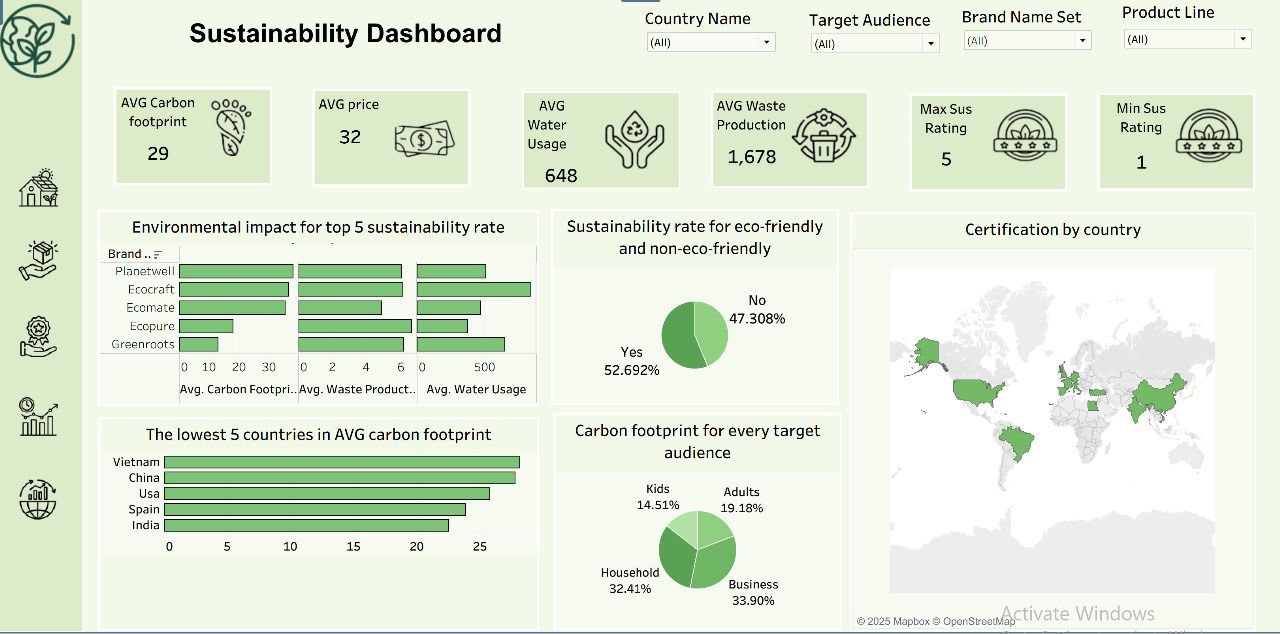

This screenshot's page, from the dashboard's own definition file:
{"tool":"powerbi","page":{"name":"Dashboard1 ","canvas":[1280,720],"ordinal":1},"visuals":[{"type":"shape","box":[0,0,145,643],"z":0},{"type":"card","title":"AVE Water Usage","fields":{"Values":["Avg(Sustainability_Fact.water_usage)"]},"box":[577,64,308,96],"z":1000},{"type":"card","title":"AVG Waste Production","fields":{"Values":["Avg(Sustainability_Fact.waste_production)"]},"box":[253,64,312,97],"z":2000},{"type":"card","title":"AVG Carbon FootPrint","fields":{"Values":["Avg(Sustainability_Fact.carbon_footprint)"]},"box":[910,60,302,97],"z":3000},{"type":"clusteredColumnChart","title":"AVE Carbon footprint for each country","fields":{"Category":["Country_dim.country_name"],"Y":["Avg(Sustainability_Fact.carbon_footprint)"]},"box":[640,397,628,246],"z":4000},{"type":"clusteredBarChart","title":" Enviromental impact for top 5 brands by sustainability rating","fields":{"Category":["Brand_dim.brand_name"],"Y":["Avg(Sustainability_Fact.carbon_footprint)","Avg(Sustainability_Fact.waste_production)","Avg(Sustainability_Fact.water_usage)"]},"box":[163,172,463,471],"z":5000},{"type":"donutChart","title":"Sustainability rate for eco-friendly and non-eco-friendly","fields":{"Category":["Sustainability_Fact.eco_friendly_manufacturing"],"Y":["CountNonNull(Sustainability_Fact.eco_friendly_manufacturing)"]},"box":[640,172,327,219],"z":6000},{"type":"pieChart","title":"Carbon footprint for every target audience","fields":{"Y":["Avg(Sustainability_Fact.carbon_footprint)"],"Category":["Product_Category_dim.target_audience"]},"box":[974,172,294,219],"z":7000},{"type":"image","box":[900,68,81,84],"z":8000},{"type":"image","box":[271,84,72,75],"z":9000},{"type":"image","box":[586,77,79,77],"z":10000},{"type":"shape","box":[421.2,0,463.8,60],"z":11000},{"type":"textbox","box":[476.2,10,353.8,40],"z":12000},{"type":"actionButton","title":"Dashboard 2","box":[9,52,115,28],"z":13000},{"type":"actionButton","title":"Dashboard 3","box":[9,81,115,26],"z":14000},{"type":"actionButton","title":"Dashboard 4","box":[9,110,116,25],"z":15000},{"type":"actionButton","title":"Home","box":[9,15,117,31],"z":16000},{"type":"image","box":[476.5,5.9,52.9,50.6],"z":17000},{"type":"listSlicer","title":"country name","fields":{"Values":["Country_dim.country_name"]},"box":[6,157,125,157],"z":18000},{"type":"listSlicer","fields":{"Values":["Sustainability_Fact.product_line"]},"box":[4,323,132,157],"z":19000},{"type":"listSlicer","fields":{"Values":["Year_dim.year"]},"box":[6,488,130,124],"z":20000}]}

Visuals, with their boxes on the page's 1280x720 design canvas (x1, y1, x2, y2). These are canvas units, not pixel positions in the 1280x634 screenshot, which may show the page scaled, cropped or inside an application window:
shape: detection(0, 0, 145, 643)
"AVE Water Usage" card: detection(577, 64, 885, 160)
"AVG Waste Production" card: detection(253, 64, 565, 161)
"AVG Carbon FootPrint" card: detection(910, 60, 1212, 157)
"AVE Carbon footprint for each country" clusteredColumnChart: detection(640, 397, 1268, 643)
" Enviromental impact for top 5 brands by sustainability rating" clusteredBarChart: detection(163, 172, 626, 643)
"Sustainability rate for eco-friendly and non-eco-friendly" donutChart: detection(640, 172, 967, 391)
"Carbon footprint for every target audience" pieChart: detection(974, 172, 1268, 391)
image: detection(900, 68, 981, 152)
image: detection(271, 84, 343, 159)
image: detection(586, 77, 665, 154)
shape: detection(421, 0, 885, 60)
textbox: detection(476, 10, 830, 50)
"Dashboard 2" actionButton: detection(9, 52, 124, 80)
"Dashboard 3" actionButton: detection(9, 81, 124, 107)
"Dashboard 4" actionButton: detection(9, 110, 125, 135)
"Home" actionButton: detection(9, 15, 126, 46)
image: detection(476, 6, 529, 56)
"country name" listSlicer: detection(6, 157, 131, 314)
listSlicer - Sustainability_Fact.product_line: detection(4, 323, 136, 480)
listSlicer - Year_dim.year: detection(6, 488, 136, 612)
